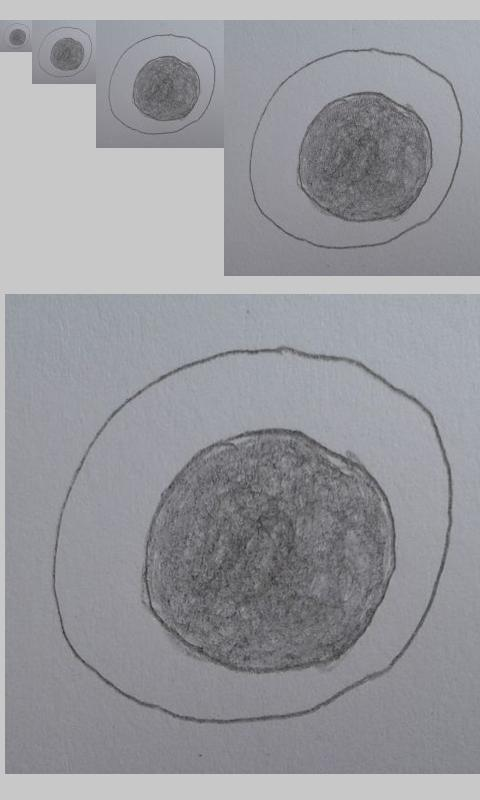radio_button: (47, 341, 455, 726), (248, 47, 465, 250), (106, 32, 217, 136), (37, 25, 93, 79), (3, 22, 31, 50)
